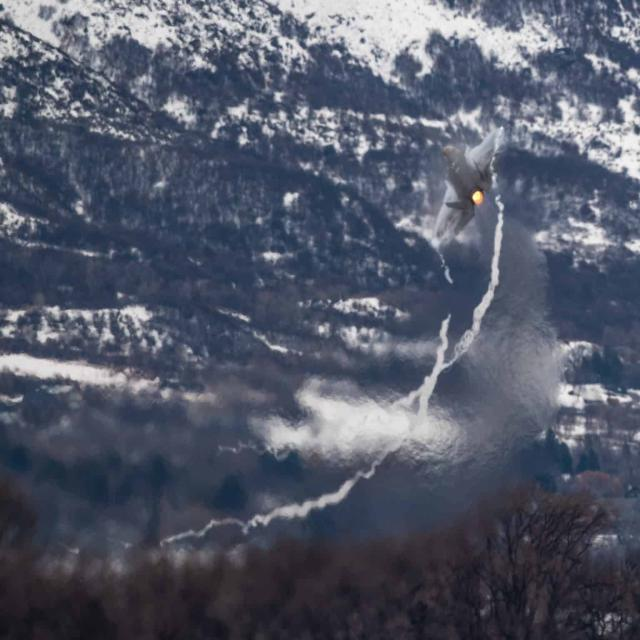MIL_Plane: (436, 126, 504, 237)
